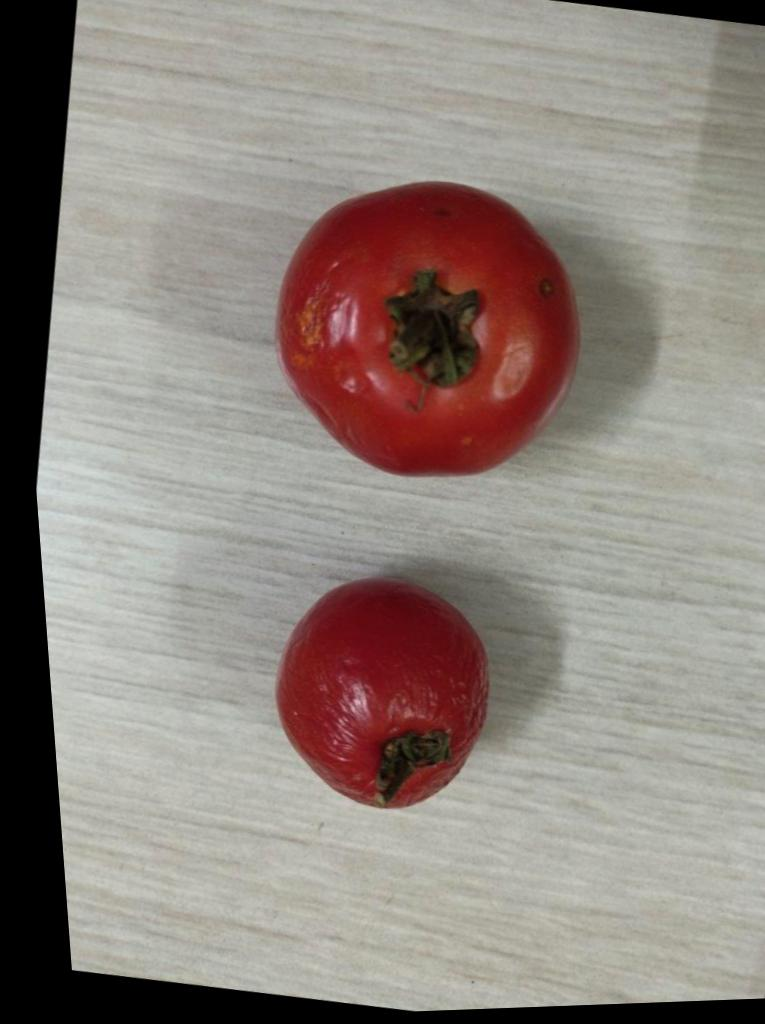bruise_discoloration: (294, 262, 337, 346), (330, 362, 363, 388), (290, 351, 314, 371)
surface_damage: (538, 279, 552, 297)
tomato: (276, 182, 576, 475), (275, 580, 487, 806)
